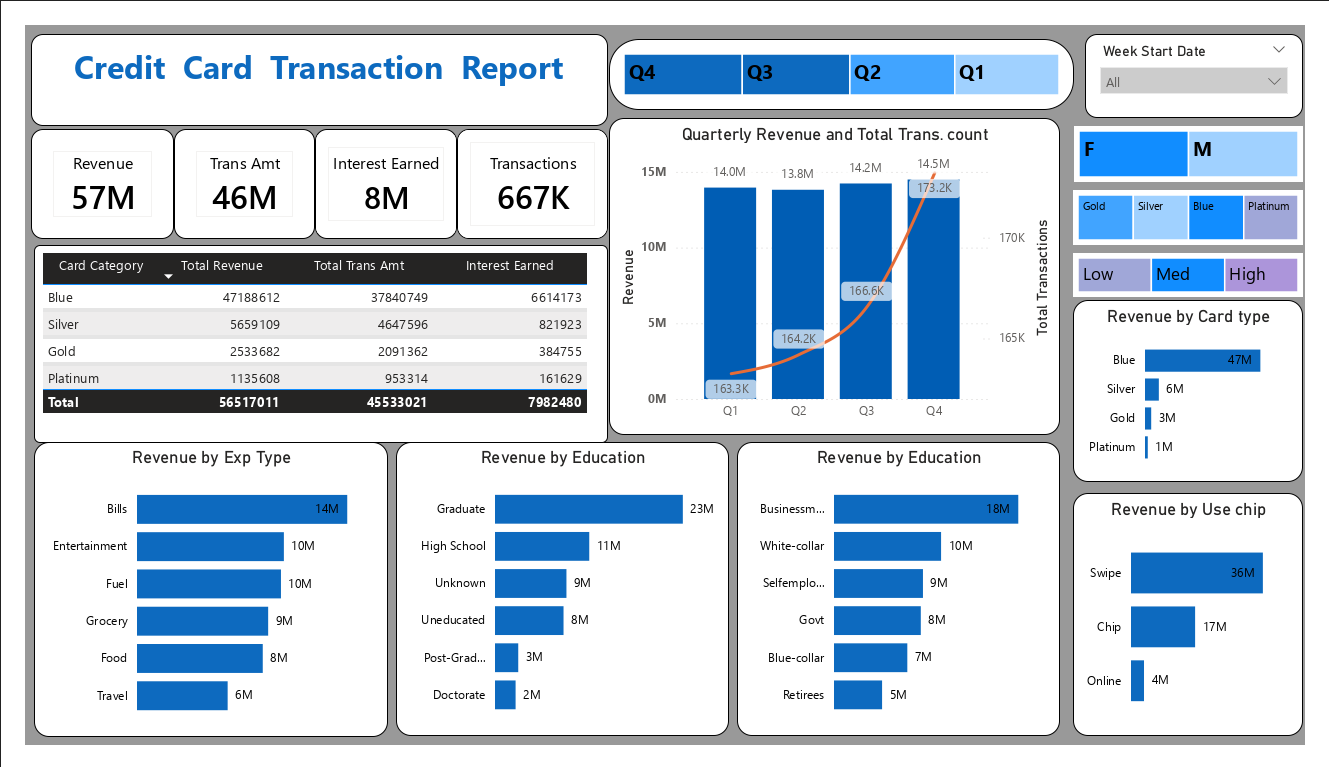

Layout of this report page (visuals, bound fields, positions):
{"tool":"powerbi","page":{"name":"CC Transactions","canvas":[1280,720],"ordinal":1},"visuals":[{"type":"textbox","box":[6.5,8.6,576.9,92.7],"z":0},{"type":"lineStackedColumnComboChart","title":"Quarterly Revenue and Total Trans. count ","fields":{"Category":["cc_detail.Qtr"],"Y":["Sum(cc_detail.Revenue)"],"Y2":["Sum(cc_detail.Total_Trans_Ct)"]},"box":[584.5,92.7,450.7,317],"z":1000},{"type":"barChart","title":"Revenue by Exp Type","fields":{"Y":["Sum(cc_detail.Revenue)"],"Category":["cc_detail.Exp_Type"]},"box":[8.6,417.3,354.8,294.4],"z":2000},{"type":"barChart","title":"Revenue by Education","fields":{"Y":["Sum(cc_detail.Revenue)"],"Category":["cust_detail.Education_Level"]},"box":[371,417.3,333.2,293.3],"z":3000},{"type":"barChart","title":"Revenue by Education","fields":{"Y":["Sum(cc_detail.Revenue)"],"Category":["cust_detail.Customer_Job"]},"box":[711.7,417.3,323.5,293.3],"z":4000},{"type":"barChart","title":"Revenue by Card type","fields":{"Y":["Sum(cc_detail.Revenue)"],"Category":["cc_detail.Card_Category"]},"box":[1048.2,275,229.7,182.2],"z":5000},{"type":"barChart","title":"Revenue by Use chip","fields":{"Y":["Sum(cc_detail.Revenue)"],"Category":["cc_detail.Use_Chip"]},"box":[1048.2,468,229.7,242.6],"z":6000},{"type":"tableEx","fields":{"Values":["cc_detail.Card_Category","Sum(cc_detail.Revenue)","Sum(cc_detail.Total_Trans_Amt)","Sum(cc_detail.Interest_Earned)"]},"box":[9.4,220.3,573.5,197.4],"z":7000},{"type":"cardVisual","fields":{"Data":["Sum(cc_detail.Revenue)"]},"box":[6.5,103.5,142.3,110],"z":8000},{"type":"cardVisual","fields":{"Data":["Sum(cc_detail.Total_Trans_Amt)"]},"box":[148.8,103.5,141.3,110],"z":9000},{"type":"cardVisual","fields":{"Data":["Sum(cc_detail.Interest_Earned)"]},"box":[290.1,103.5,142.3,110],"z":10000},{"type":"cardVisual","fields":{"Data":["Sum(cc_detail.Total_Trans_Ct)"]},"box":[432.4,103.5,151,110],"z":11000},{"type":"slicer","fields":{"Values":["cc_detail.Week_Start_Date"]},"box":[1059.9,9.1,217.9,84],"z":12000},{"type":"treemap","fields":{"Group":["cc_detail.Qtr"],"Values":["Avg(cc_detail.Client_Num)"]},"box":[584.4,13.6,464.1,71.5],"z":13000},{"type":"treemap","fields":{"Group":["cust_detail.Gender"],"Values":["Avg(cc_detail.Client_Num)"]},"box":[1048.5,101,229.2,55.6],"z":14000},{"type":"treemap","fields":{"Values":["Avg(cc_detail.Client_Num)"],"Group":["cc_detail.Card_Category"]},"box":[1048.2,165,229.7,55],"z":15000},{"type":"treemap","fields":{"Values":["Avg(cc_detail.Client_Num)"],"Group":["cust_detail.IncomeGroup"]},"box":[1048.2,227.5,229.7,44.2],"z":16000}]}

Visuals, with their boxes in screenshot pixels (x1, y1, x2, y2), scaled from the page's 1280x720 canvas onto the 1329x767 screenshot:
textbox: [7, 9, 606, 108]
"Quarterly Revenue and Total Trans. count " lineStackedColumnComboChart: [607, 99, 1075, 436]
"Revenue by Exp Type" barChart: [9, 445, 377, 758]
"Revenue by Education" barChart: [385, 445, 731, 757]
"Revenue by Education" barChart: [739, 445, 1075, 757]
"Revenue by Card type" barChart: [1088, 293, 1327, 487]
"Revenue by Use chip" barChart: [1088, 499, 1327, 757]
tableEx - cc_detail.Card_Category x Sum(cc_detail.Revenue): [10, 235, 605, 445]
cardVisual - Sum(cc_detail.Revenue): [7, 110, 154, 227]
cardVisual - Sum(cc_detail.Total_Trans_Amt): [154, 110, 301, 227]
cardVisual - Sum(cc_detail.Interest_Earned): [301, 110, 449, 227]
cardVisual - Sum(cc_detail.Total_Trans_Ct): [449, 110, 606, 227]
slicer - cc_detail.Week_Start_Date: [1100, 10, 1327, 99]
treemap - cc_detail.Qtr x Avg(cc_detail.Client_Num): [607, 14, 1089, 91]
treemap - cust_detail.Gender x Avg(cc_detail.Client_Num): [1089, 108, 1327, 167]
treemap - Avg(cc_detail.Client_Num) x cc_detail.Card_Category: [1088, 176, 1327, 234]
treemap - Avg(cc_detail.Client_Num) x cust_detail.IncomeGroup: [1088, 242, 1327, 289]
